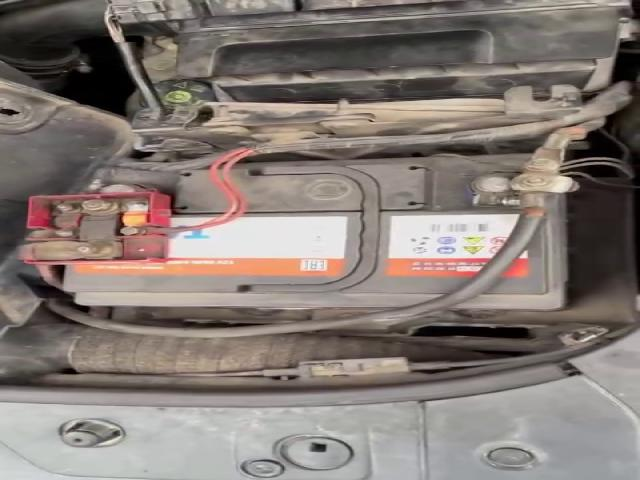accumulator: (19, 151, 580, 309)
